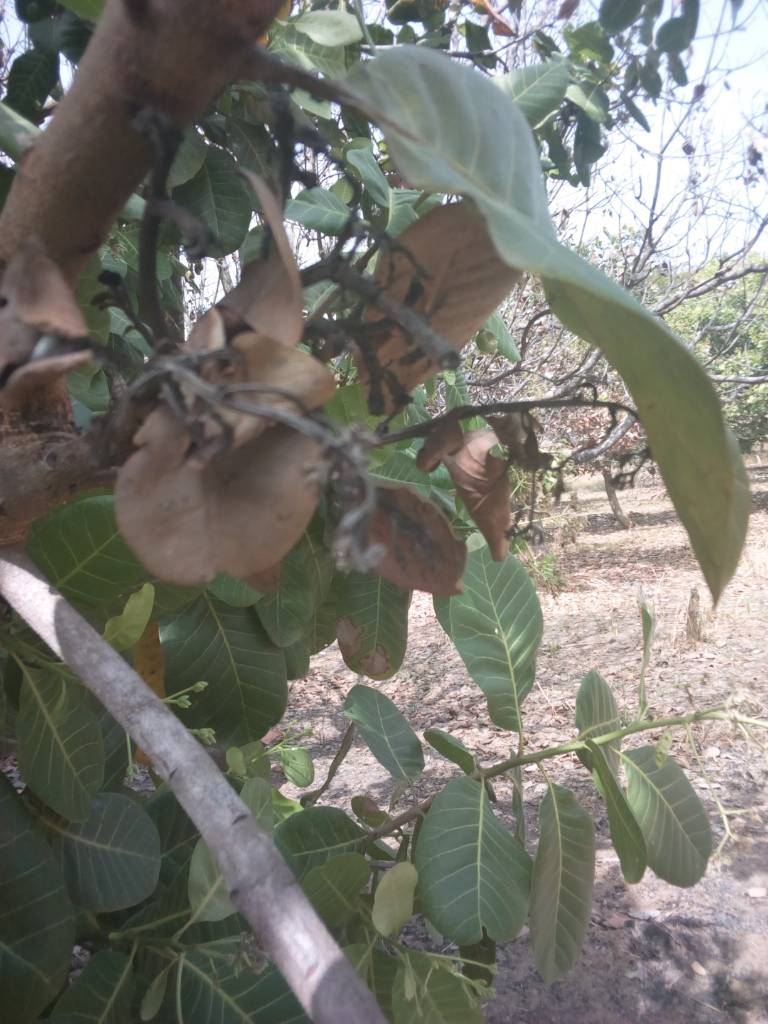Dessèchement des bourgeons: (108, 357, 538, 589), (336, 257, 430, 414)
